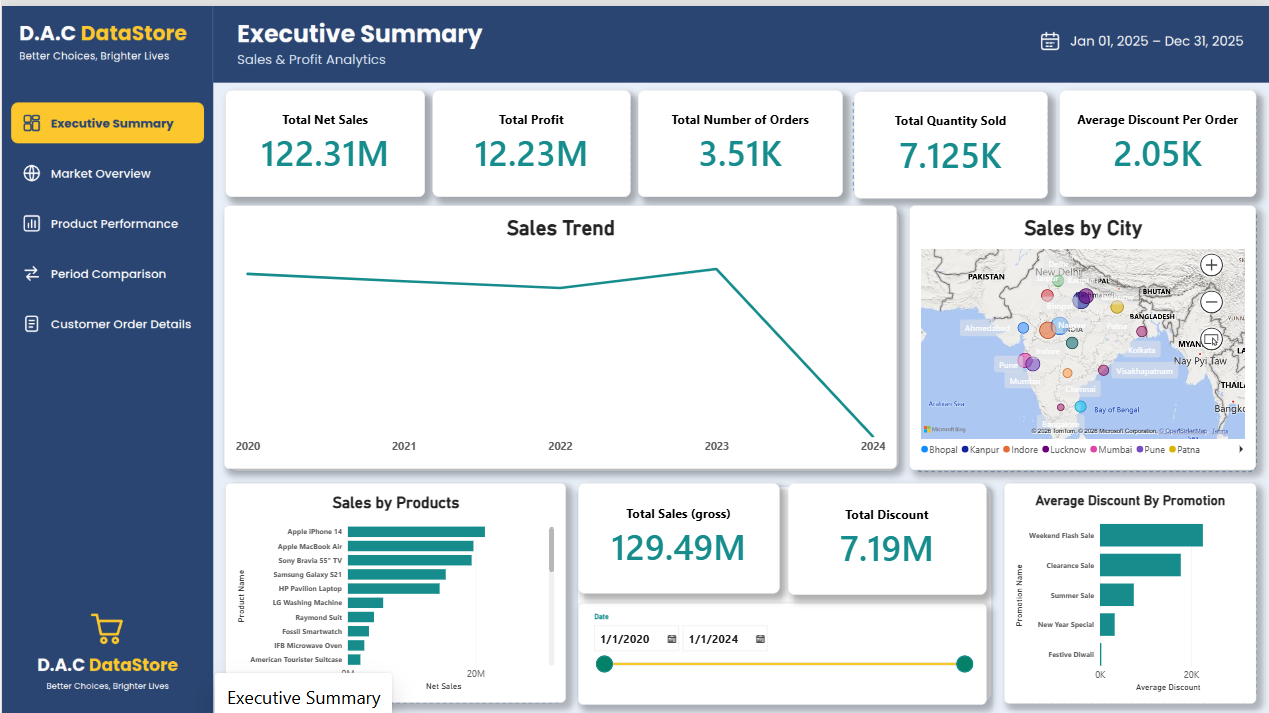

What the dashboard file says about the page in this screenshot:
{"tool":"powerbi","page":{"name":"Executive Summary","canvas":[1920,1080],"ordinal":0},"visuals":[{"type":"cardVisual","fields":{"Data":["Calendar.Total Sales"]},"box":[338,128,302,162],"z":0},{"type":"cardVisual","fields":{"Data":["Calendar.Total Profit"]},"box":[653,128,300,162],"z":1000},{"type":"cardVisual","fields":{"Data":["CountNonNull(Fact Table.Order ID)"]},"box":[964,128,310,162],"z":2000},{"type":"cardVisual","fields":{"Data":["Calendar.Total Quantity Sold"]},"box":[1290.8,128.8,293.5,162.2],"z":3000},{"type":"cardVisual","fields":{"Data":["Avg(Fact Table.Discount Value )"]},"box":[1602,128,298,162],"z":4000},{"type":"slicer","fields":{"Values":["Fact Table.Date (dd/mm/yyyy)"]},"box":[872.3,903.1,618.5,153.8],"z":5000},{"type":"shape","box":[350.7,312.6,1004.5,57.3],"z":6000},{"type":"clusteredBarChart","title":"Sales by Products","fields":{"Category":["Dim Product.Product Name"],"Y":["Sum(Fact Table.Net Sales )"]},"box":[337.5,722.5,515,332.5],"z":7000},{"type":"lineChart","title":"Sales Trend","fields":{"Category":["Calendar.Date Hierarchy.Year","Calendar.Date Hierarchy.Quarter","Calendar.Date Hierarchy.Month","Calendar.Date Hierarchy.Day"],"Y":["Sum(Fact Table.Net Sales )"]},"box":[336.4,303,1018.8,398.4],"z":8000},{"type":"map","title":"Sales by City","fields":{"Category":["Dim Customers.City"],"Series":["Dim Customers.City"],"Size":["Sum(Fact Table.Net Sales )"]},"box":[1374.3,303,524.9,400.8],"z":9000},{"type":"cardVisual","fields":{"Data":["Sum(Fact Table.Total Sales)"]},"box":[873.2,722.9,305.4,167],"z":10000},{"type":"cardVisual","fields":{"Data":["Sum(Fact Table.Discount Value )"]},"box":[1190.6,722.9,300.6,169.4],"z":11000},{"type":"clusteredBarChart","title":"Average Discount By Promotion","fields":{"Category":["Dim Promotion.Promotion Name"],"Y":["Avg(Fact Table.Discount Value )"]},"box":[1517.4,722.9,381.7,334],"z":12000}]}

Visuals, with their boxes on the page's 1920x1080 design canvas (x1, y1, x2, y2). These are canvas units, not pixel positions in the 1269x713 screenshot, which may show the page scaled, cropped or inside an application window:
cardVisual - Calendar.Total Sales: l=338, t=128, r=640, b=290
cardVisual - Calendar.Total Profit: l=653, t=128, r=953, b=290
cardVisual - CountNonNull(Fact Table.Order ID): l=964, t=128, r=1274, b=290
cardVisual - Calendar.Total Quantity Sold: l=1291, t=129, r=1584, b=291
cardVisual - Avg(Fact Table.Discount Value ): l=1602, t=128, r=1900, b=290
slicer - Fact Table.Date (dd/mm/yyyy): l=872, t=903, r=1491, b=1057
shape: l=351, t=313, r=1355, b=370
"Sales by Products" clusteredBarChart: l=338, t=722, r=852, b=1055
"Sales Trend" lineChart: l=336, t=303, r=1355, b=701
"Sales by City" map: l=1374, t=303, r=1899, b=704
cardVisual - Sum(Fact Table.Total Sales): l=873, t=723, r=1179, b=890
cardVisual - Sum(Fact Table.Discount Value ): l=1191, t=723, r=1491, b=892
"Average Discount By Promotion" clusteredBarChart: l=1517, t=723, r=1899, b=1057
